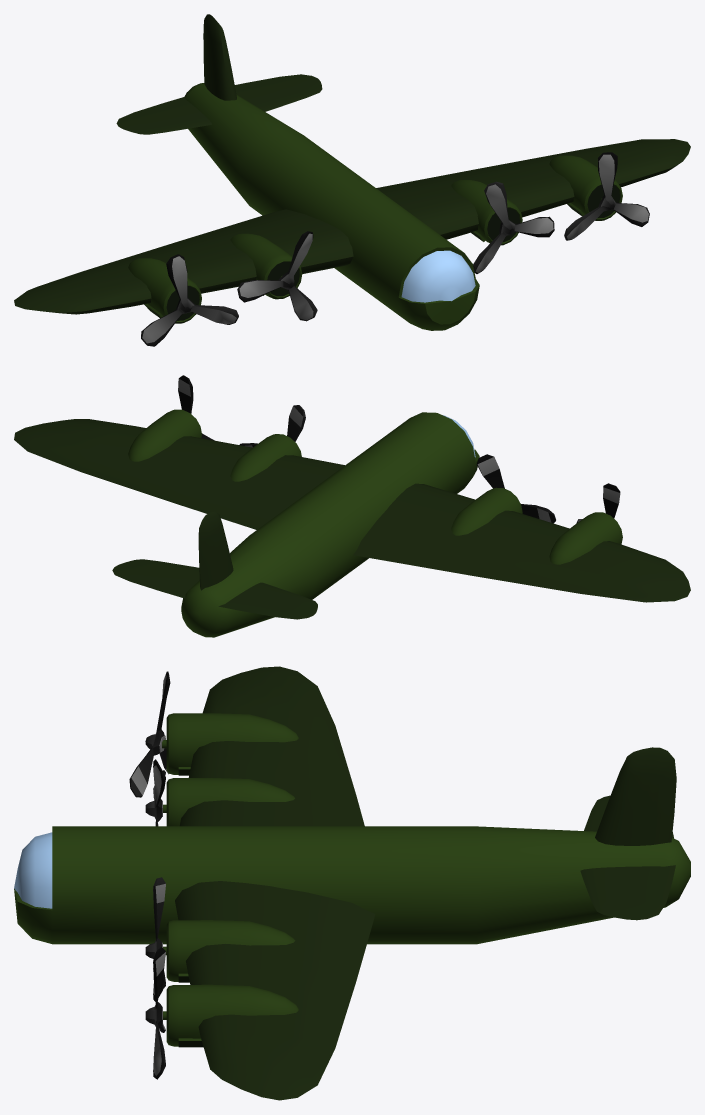
The model's file is Airplane big.fbx.
3 renders of one model, top to bottom at view 1: azimuth 30°, elevation 25°; view 2: azimuth 150°, elevation 25°; view 3: azimuth 270°, elevation 25°, orthographic. The views are drawn at different scales.
Visible parts, largest first — view 1: Hull, Propeller_1, Propeller_3, Propeller_2, Propeller_4; view 2: Hull, Propeller_2, Propeller_3, Propeller_4, Propeller_1; view 3: Hull, Propeller_1, Propeller_4, Propeller_3, Propeller_2.
Boxes of the visible parts, left/top/right/bottom form: Hull: left=14, top=14, right=690, bottom=330; Propeller_1: left=141, top=254, right=238, bottom=346; Propeller_3: left=473, top=181, right=554, bottom=273; Propeller_2: left=237, top=231, right=317, bottom=321; Propeller_4: left=564, top=152, right=649, bottom=240; Hull: left=14, top=409, right=690, bottom=637; Propeller_2: left=476, top=454, right=555, bottom=523; Propeller_3: left=239, top=405, right=305, bottom=447; Propeller_4: left=178, top=375, right=214, bottom=440; Propeller_1: left=576, top=483, right=620, bottom=523; Hull: left=14, top=666, right=690, bottom=1100; Propeller_1: left=129, top=671, right=170, bottom=797; Propeller_4: left=145, top=947, right=165, bottom=1079; Propeller_3: left=145, top=877, right=165, bottom=1001; Propeller_2: left=145, top=759, right=165, bottom=826.
Size of the model in its own units: 2927 by 610 by 1929.
